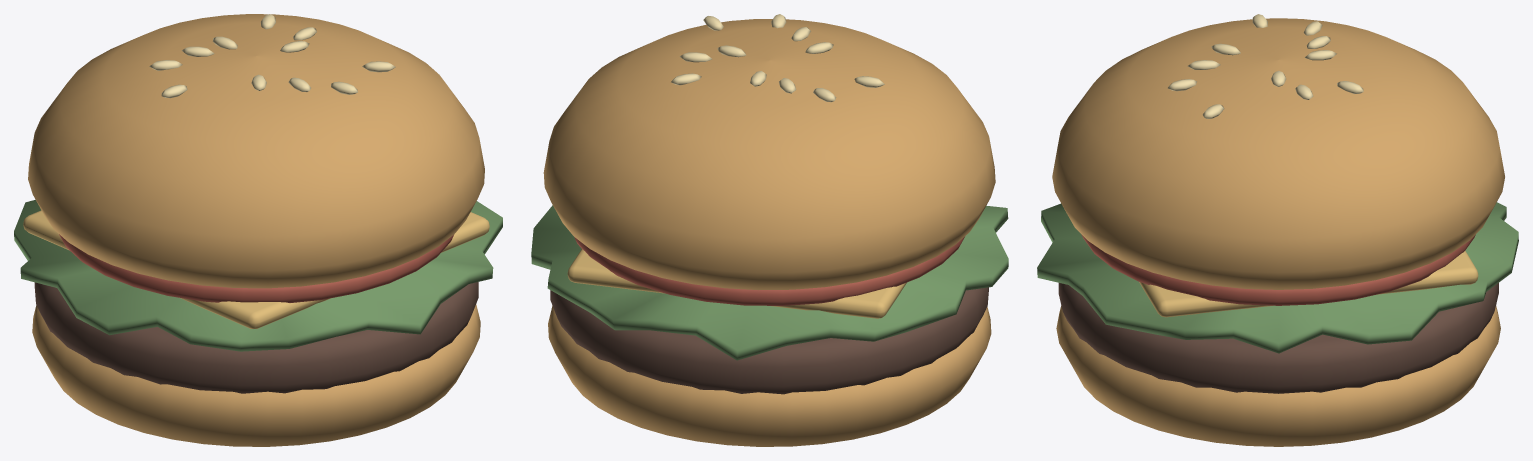
Rendered from option-burger.glb.
3 renders of one model, left to right at view 1: azimuth 30°, elevation 25°; view 2: azimuth 150°, elevation 25°; view 3: azimuth 270°, elevation 25°, orthographic.
Parts seen in each view (by area): view 1: Model_Burger_Bun, Model_Burger_Leaf, Model_Burger_Patty, Model_Burger_Tomato, Model_Burger_Cheese, Model_Burger_Bread; view 2: Model_Burger_Bun, Model_Burger_Leaf, Model_Burger_Patty, Model_Burger_Tomato, Model_Burger_Cheese, Model_Burger_Bread; view 3: Model_Burger_Bun, Model_Burger_Leaf, Model_Burger_Patty, Model_Burger_Tomato, Model_Burger_Cheese, Model_Burger_Bread.
Boxes of the visible parts, <box> form: Model_Burger_Bun: <box>28,14,484,446</box>; Model_Burger_Leaf: <box>14,199,502,351</box>; Model_Burger_Patty: <box>34,282,478,393</box>; Model_Burger_Tomato: <box>59,234,453,302</box>; Model_Burger_Cheese: <box>23,210,489,328</box>; Model_Burger_Bread: <box>149,14,395,98</box>; Model_Burger_Bun: <box>543,19,995,446</box>; Model_Burger_Leaf: <box>531,205,1008,360</box>; Model_Burger_Patty: <box>550,287,988,394</box>; Model_Burger_Tomato: <box>574,237,964,305</box>; Model_Burger_Cheese: <box>567,249,906,318</box>; Model_Burger_Bread: <box>671,14,884,102</box>; Model_Burger_Bun: <box>1052,18,1504,446</box>; Model_Burger_Leaf: <box>1037,202,1518,353</box>; Model_Burger_Patty: <box>1058,283,1498,393</box>; Model_Burger_Tomato: <box>1081,234,1475,305</box>; Model_Burger_Cheese: <box>1139,251,1478,317</box>; Model_Burger_Bread: <box>1168,14,1363,118</box>.
Bounding box in the file's own units: 0.6936 × 0.5112 × 0.6827.
